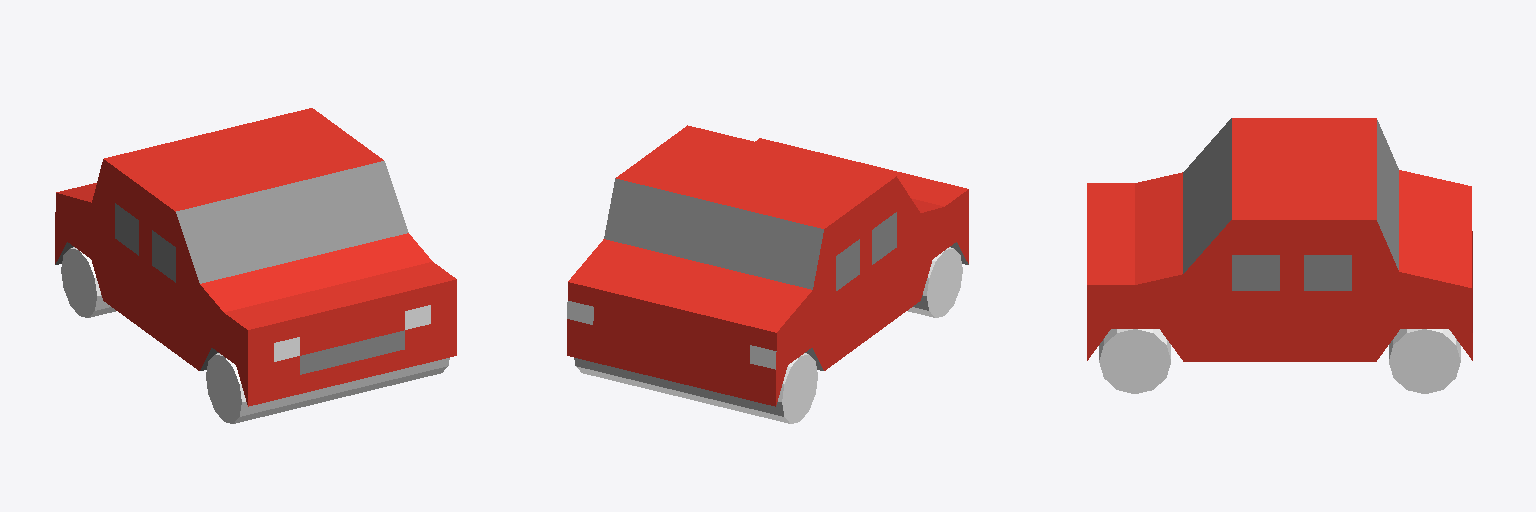
Rendered from model-triangulated.obj.
The picture shows the model from 3 angles: view 1: azimuth 30°, elevation 25°; view 2: azimuth 150°, elevation 25°; view 3: azimuth 270°, elevation 25°; orthographic projection.
Visible parts, largest first — view 1: group[number redacted], group[number redacted], group[number redacted]; view 2: group[number redacted], group[number redacted], group[number redacted]; view 3: group[number redacted], group[number redacted], group[number redacted].
Part boxes in pixels (x1,y1,x2,y2): group[number redacted]: (55, 108, 456, 406); group[number redacted]: (206, 353, 449, 423); group[number redacted]: (61, 247, 115, 317); group[number redacted]: (567, 125, 968, 406); group[number redacted]: (574, 353, 817, 423); group[number redacted]: (908, 247, 962, 317); group[number redacted]: (1087, 118, 1472, 361); group[number redacted]: (1099, 329, 1170, 393); group[number redacted]: (1389, 329, 1460, 393).
Bounding box in the file's own units: 0.2 × 0.16 × 0.32.